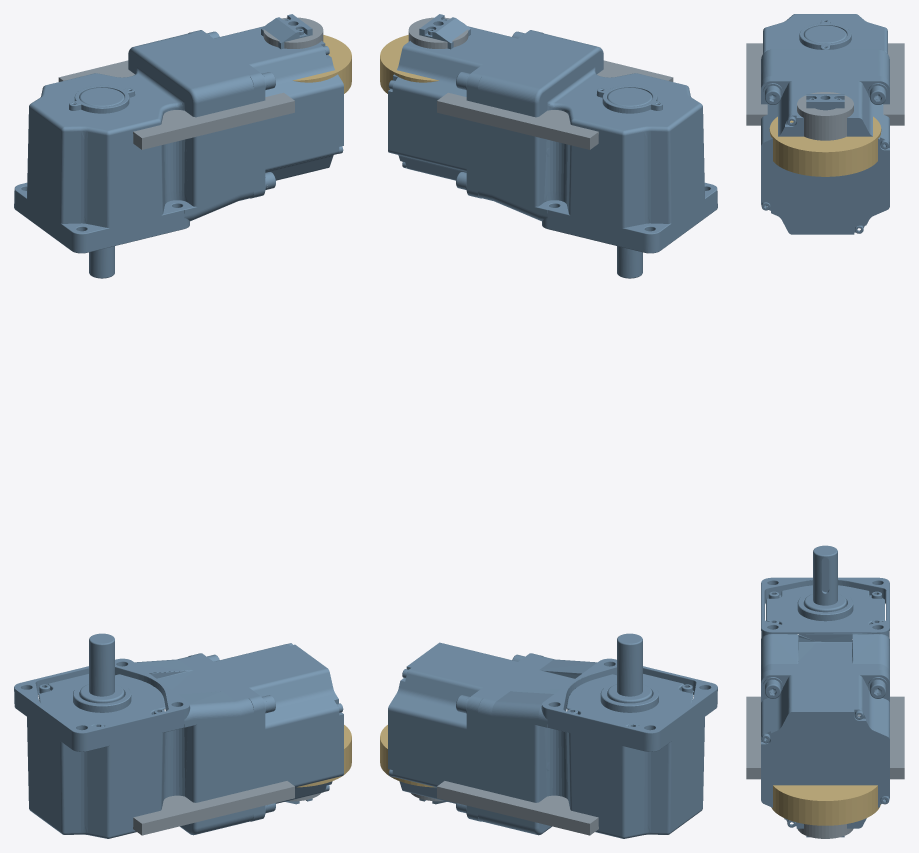
The model's file is A04_MOTORISATION.glb.
3 views of the same model, side by side, from view 1: azimuth 30°, elevation 25°; view 2: azimuth 150°, elevation 25°; view 3: azimuth 270°, elevation 25° (orthographic). The views are drawn at different scales.
Parts seen in each view (by area): view 1: M01_D_4, M01_0, M02_5, M02_1, M05_7, M03_6; view 2: M01_D_4, M01_0, M02_5, M02_1, M05_7, M03_6; view 3: M01_0, M01_D_4, M05_7, M05_3, M02_5, M02_1, M03_6, M03_2.
Part boxes in pixels (x1,y1,x2,y2): M01_D_4: [14, 14, 343, 278]; M01_0: [14, 633, 343, 838]; M02_5: [58, 60, 294, 149]; M02_1: [133, 781, 294, 835]; M05_7: [293, 35, 351, 93]; M03_6: [263, 17, 323, 48]; M01_D_4: [388, 14, 717, 278]; M01_0: [388, 633, 717, 838]; M02_5: [437, 60, 673, 149]; M02_1: [437, 781, 598, 835]; M05_7: [380, 35, 438, 93]; M03_6: [408, 17, 468, 48]; M01_0: [761, 545, 889, 837]; M01_D_4: [761, 14, 889, 234]; M05_7: [769, 116, 881, 176]; M05_3: [771, 785, 880, 825]; M02_5: [746, 43, 904, 125]; M02_1: [746, 696, 904, 779]; M03_6: [797, 92, 853, 140]; M03_2: [797, 824, 853, 838].
Size of the model in its own units: 267 by 655 by 128.
